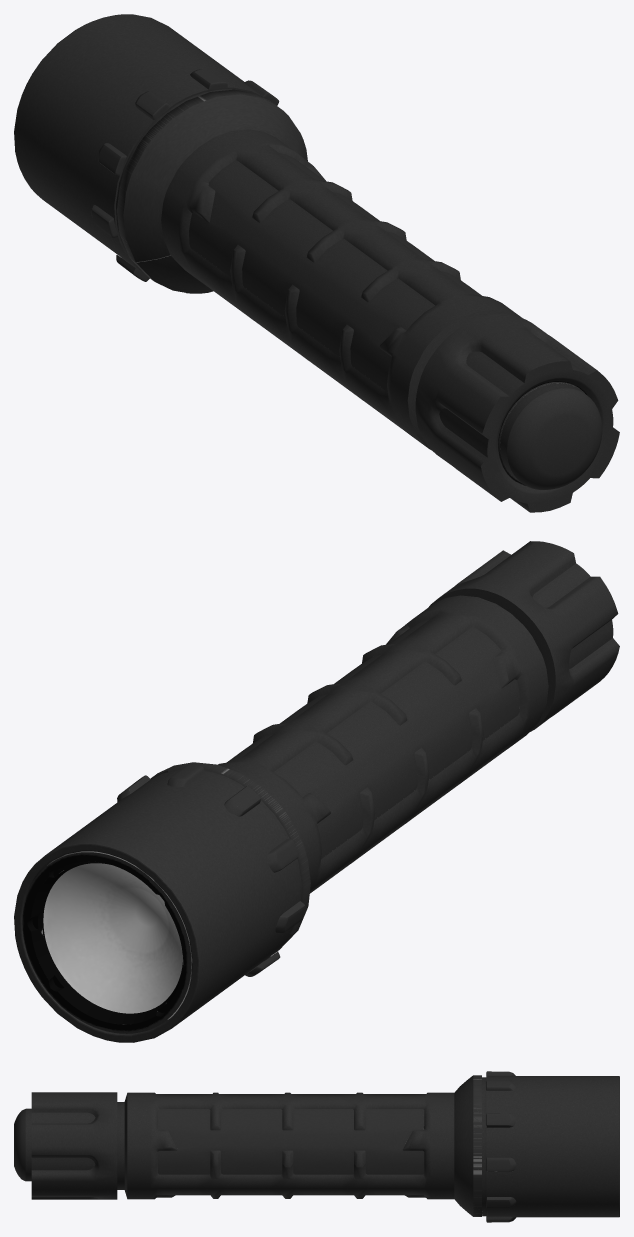
The model's file is torch.glb.
3 renders of one model, top to bottom at view 1: azimuth 30°, elevation 25°; view 2: azimuth 150°, elevation 25°; view 3: azimuth 270°, elevation 25°, orthographic. The views are drawn at different scales.
Visible parts, largest first — view 1: TorchLP002_09 - Default_0; view 2: TorchLP002_09 - Default_0, Object001_09 - Default_0; view 3: TorchLP002_09 - Default_0.
Part boxes in pixels (left/top/right/bottom): TorchLP002_09 - Default_0: left=14, top=14, right=619, bottom=512; TorchLP002_09 - Default_0: left=14, top=541, right=619, bottom=1042; Object001_09 - Default_0: left=43, top=851, right=192, bottom=1019; TorchLP002_09 - Default_0: left=14, top=1071, right=619, bottom=1222.
Size of the model in its own units: 33.2 by 33.2 by 134.
1 material, 1 textured.
